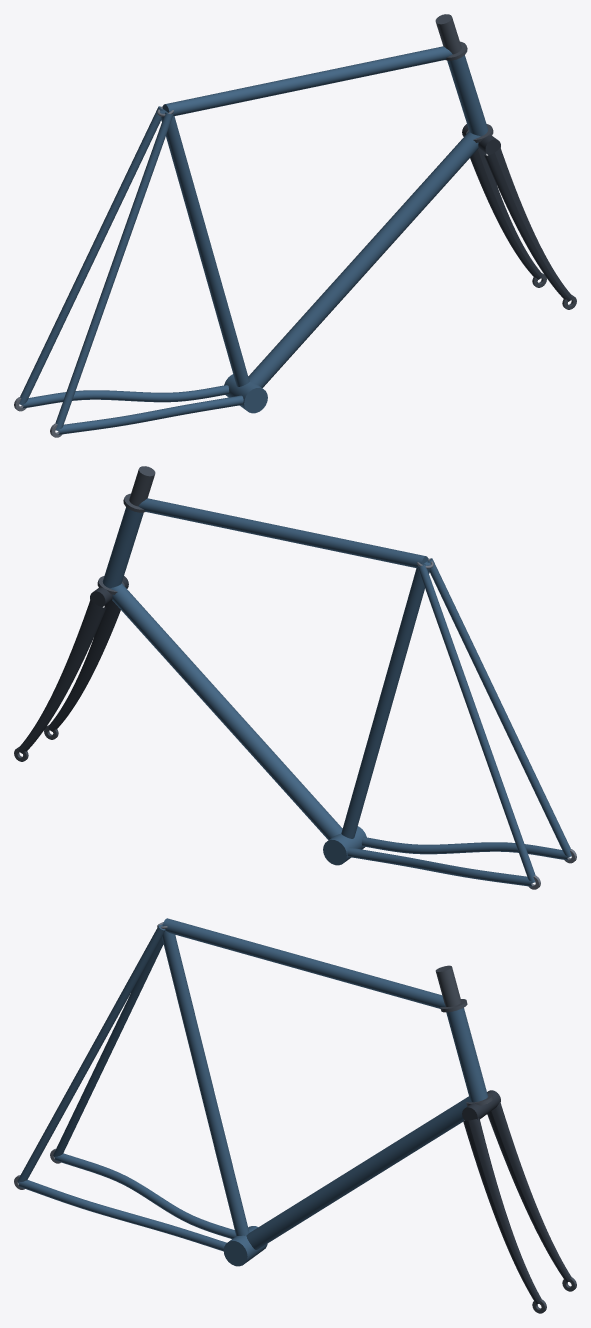
The model's file is dosnoventa-01-bcn-l.glb.
3 views of the same model, one above another, from view 1: azimuth 30°, elevation 25°; view 2: azimuth 150°, elevation 25°; view 3: azimuth 330°, elevation 25° (orthographic).
Parts seen in each view (by area): view 1: paint_down, paint_top, paint_seat, paint_seatstay_1, paint_seatstay_-1, fork_blade_1, paint_chainstay_-1, paint_chainstay_1, fork_blade_-1, paint_head, paint_bottom_bracket, fork_steerer; view 2: paint_down, paint_top, paint_seat, paint_seatstay_-1, paint_seatstay_1, fork_blade_-1, paint_chainstay_1, paint_chainstay_-1, fork_blade_1, paint_head, paint_bottom_bracket, fork_steerer; view 3: paint_down, paint_seat, paint_top, paint_seatstay_1, fork_blade_1, fork_blade_-1, paint_chainstay_1, paint_seatstay_-1, paint_chainstay_-1, paint_head, paint_bottom_bracket, fork_steerer (+1 smaller).
Part boxes in pixels (x1=…): paint_down: x1=248, y1=131, x2=480, y2=387; paint_top: x1=162, y1=46, x2=452, y2=116; paint_seat: x1=160, y1=109, x2=249, y2=386; paint_seatstay_1: x1=55, y1=112, x2=173, y2=431; paint_seatstay_-1: x1=19, y1=106, x2=163, y2=405; fork_blade_1: x1=484, y1=148, x2=572, y2=301; paint_chainstay_-1: x1=22, y1=385, x2=229, y2=408; paint_chainstay_1: x1=58, y1=395, x2=243, y2=434; fork_blade_-1: x1=470, y1=148, x2=542, y2=279; paint_head: x1=447, y1=55, x2=488, y2=136; paint_bottom_bracket: x1=224, y1=374, x2=267, y2=413; fork_steerer: x1=435, y1=14, x2=461, y2=54; paint_down: x1=110, y1=583, x2=342, y2=839; paint_top: x1=138, y1=498, x2=428, y2=568; paint_seat: x1=341, y1=561, x2=430, y2=838; paint_seatstay_-1: x1=417, y1=564, x2=535, y2=883; paint_seatstay_1: x1=427, y1=558, x2=571, y2=857; fork_blade_-1: x1=18, y1=600, x2=106, y2=753; paint_chainstay_1: x1=361, y1=837, x2=568, y2=860; paint_chainstay_-1: x1=347, y1=847, x2=532, y2=886; fork_blade_1: x1=48, y1=600, x2=120, y2=731; paint_head: x1=102, y1=507, x2=143, y2=588; paint_bottom_bracket: x1=323, y1=826, x2=366, y2=865; fork_steerer: x1=129, y1=466, x2=155, y2=506; paint_down: x1=246, y1=1096, x2=472, y2=1249; paint_seat: x1=162, y1=924, x2=249, y2=1235; paint_top: x1=162, y1=918, x2=445, y2=1008; paint_seatstay_1: x1=17, y1=925, x2=165, y2=1182; fork_blade_1: x1=463, y1=1118, x2=541, y2=1304; fork_blade_-1: x1=487, y1=1102, x2=571, y2=1282; paint_chainstay_1: x1=19, y1=1180, x2=226, y2=1251; paint_seatstay_-1: x1=53, y1=937, x2=163, y2=1157; paint_chainstay_-1: x1=55, y1=1153, x2=235, y2=1238; paint_head: x1=446, y1=1007, x2=487, y2=1102; paint_bottom_bracket: x1=223, y1=1226, x2=267, y2=1266; fork_steerer: x1=435, y1=965, x2=487, y2=1103.
Size of the model in its own units: 1.02 by 0.6253 by 0.14.
